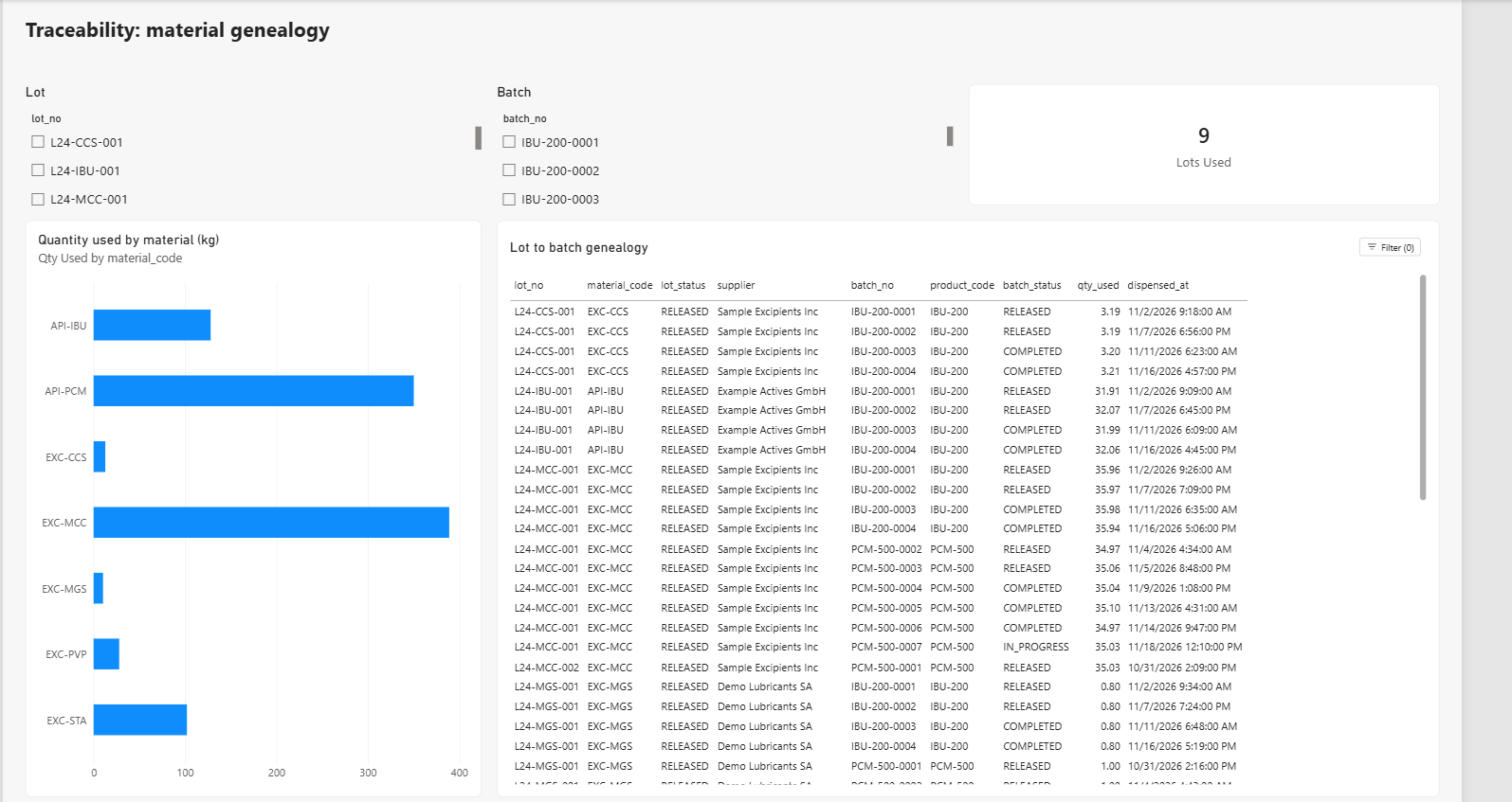

This screenshot's page, from the dashboard's own definition file:
{"tool":"powerbi","page":{"name":"Traceability","canvas":[1920,1080],"ordinal":2},"visuals":[{"type":"textbox","box":[30,20,1400,70],"z":0},{"type":"slicer","title":"Lot","fields":{"Values":["Genealogy.lot_no"]},"box":[30,110,600,160],"z":1},{"type":"slicer","title":"Batch","fields":{"Values":["Genealogy.batch_no"]},"box":[650,110,600,160],"z":2},{"type":"card","fields":{"Values":["Genealogy.Lots Used"]},"box":[1270,110,620,160],"z":3},{"type":"clusteredBarChart","title":"Quantity used by material (kg)","fields":{"Category":["Genealogy.material_code"],"Y":["Genealogy.Qty Used"]},"box":[30,290,600,760],"z":4},{"type":"tableEx","title":"Lot to batch genealogy","fields":{"Values":["Genealogy.lot_no","Genealogy.material_code","Genealogy.lot_status","Genealogy.supplier","Genealogy.batch_no","Genealogy.product_code","Genealogy.batch_status","Genealogy.qty_used","Genealogy.dispensed_at"]},"box":[650,290,1240,760],"z":5}]}

Visuals, with their boxes on the page's 1920x1080 design canvas (x1, y1, x2, y2). These are canvas units, not pixel positions in the 1512x802 screenshot, which may show the page scaled, cropped or inside an application window:
textbox: (x1=30, y1=20, x2=1430, y2=90)
"Lot" slicer: (x1=30, y1=110, x2=630, y2=270)
"Batch" slicer: (x1=650, y1=110, x2=1250, y2=270)
card - Genealogy.Lots Used: (x1=1270, y1=110, x2=1890, y2=270)
"Quantity used by material (kg)" clusteredBarChart: (x1=30, y1=290, x2=630, y2=1050)
"Lot to batch genealogy" tableEx: (x1=650, y1=290, x2=1890, y2=1050)
